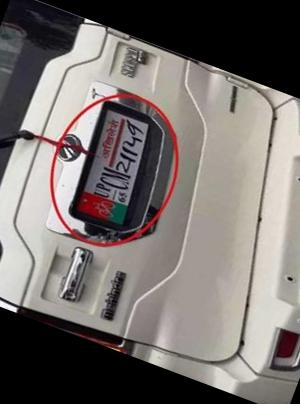plate: (63, 96, 171, 234)
